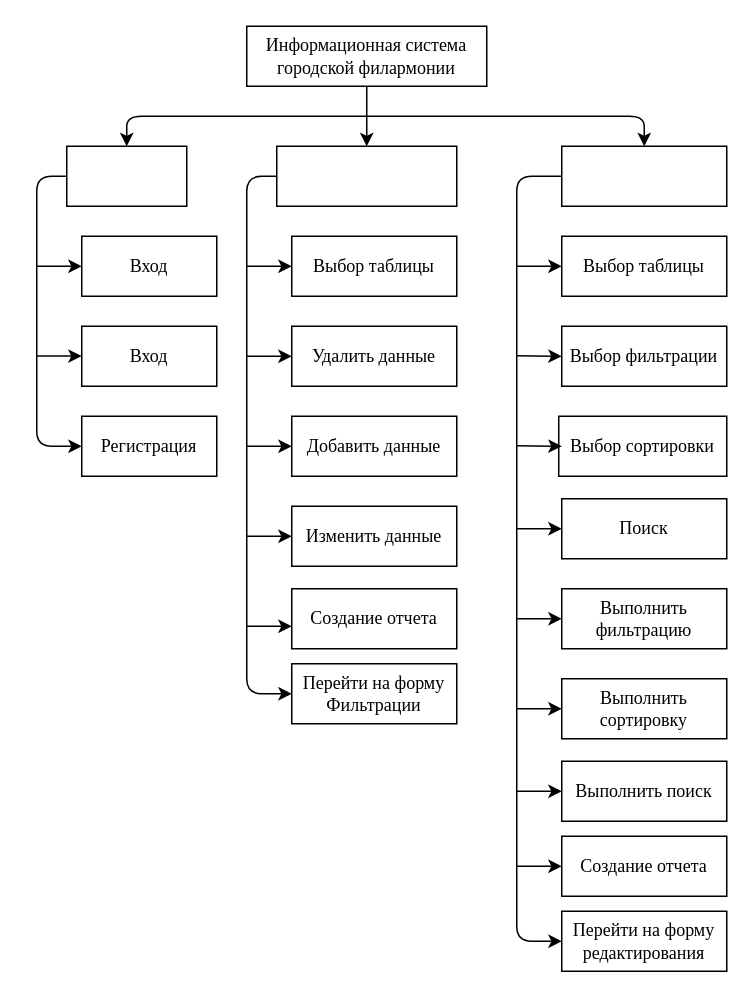
Some shapes in this 753 by 998 pixel diagram are drawn without their labels. Here are the shapes that lost their labels. From the top down, the box of each, then its label:
(65, 145, 187, 206): Авторизация
(275, 145, 457, 206): Редактирование данных
(560, 145, 727, 206): Фильтрация
